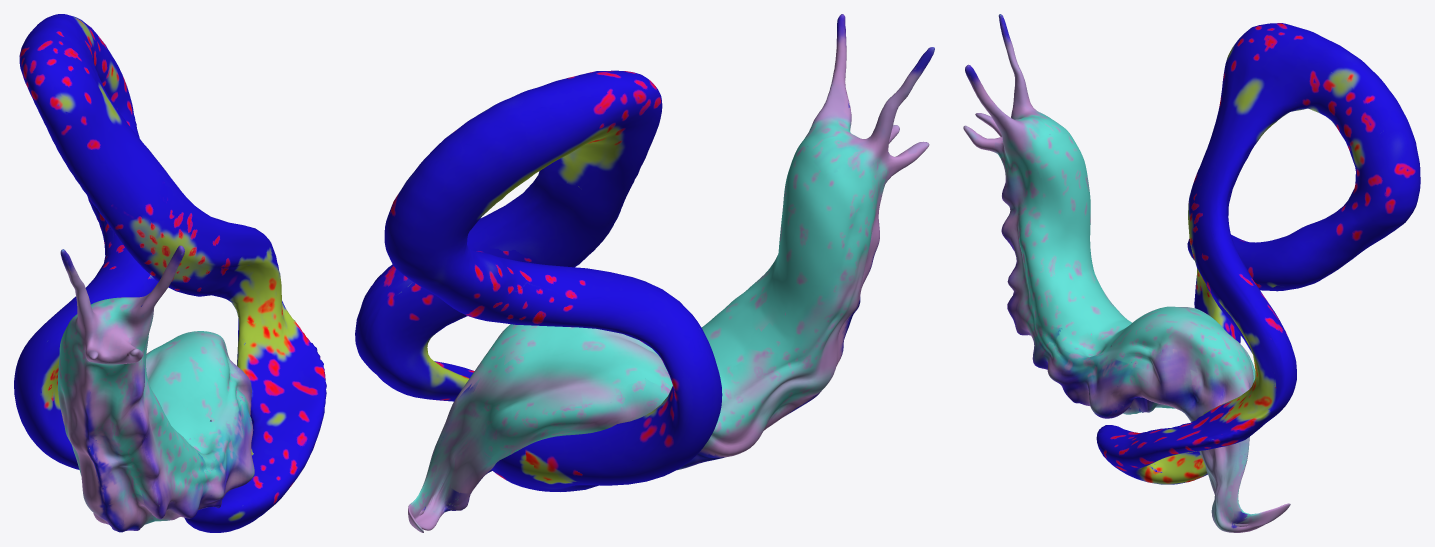
File: snail.glb
3 renders of one model, left to right at view 1: azimuth 30°, elevation 25°; view 2: azimuth 150°, elevation 25°; view 3: azimuth 270°, elevation 25°, orthographic. The views are drawn at different scales.
Parts seen in each view (by area): view 1: lemniscate, snail; view 2: lemniscate, snail; view 3: lemniscate, snail.
Part boxes in pixels (x1,y1,x2,y2): lemniscate: (14,14,326,532); snail: (58,245,254,532); lemniscate: (355,70,722,491); snail: (408,14,934,532); lemniscate: (1096,23,1420,484); snail: (963,14,1290,532).
Size of the model in its own units: 2.76 by 3.28 by 3.18.
2 materials, 2 textured.
